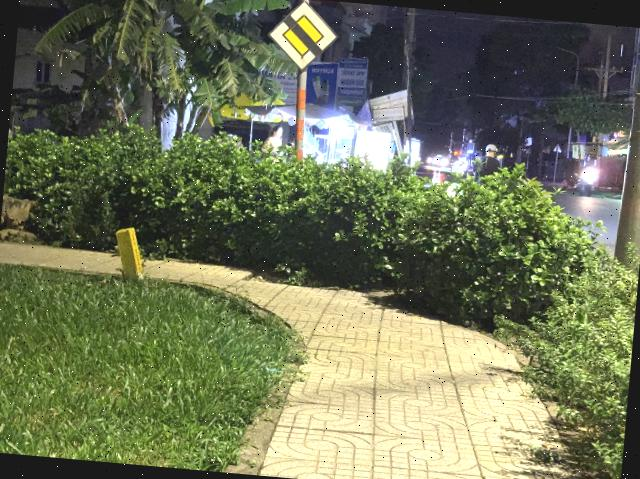het-duong-uu-tien: (264, 0, 342, 74)
